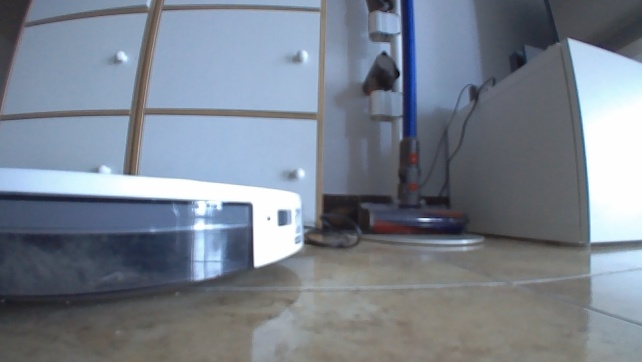wire: (418, 74, 496, 204), (300, 208, 362, 250)
